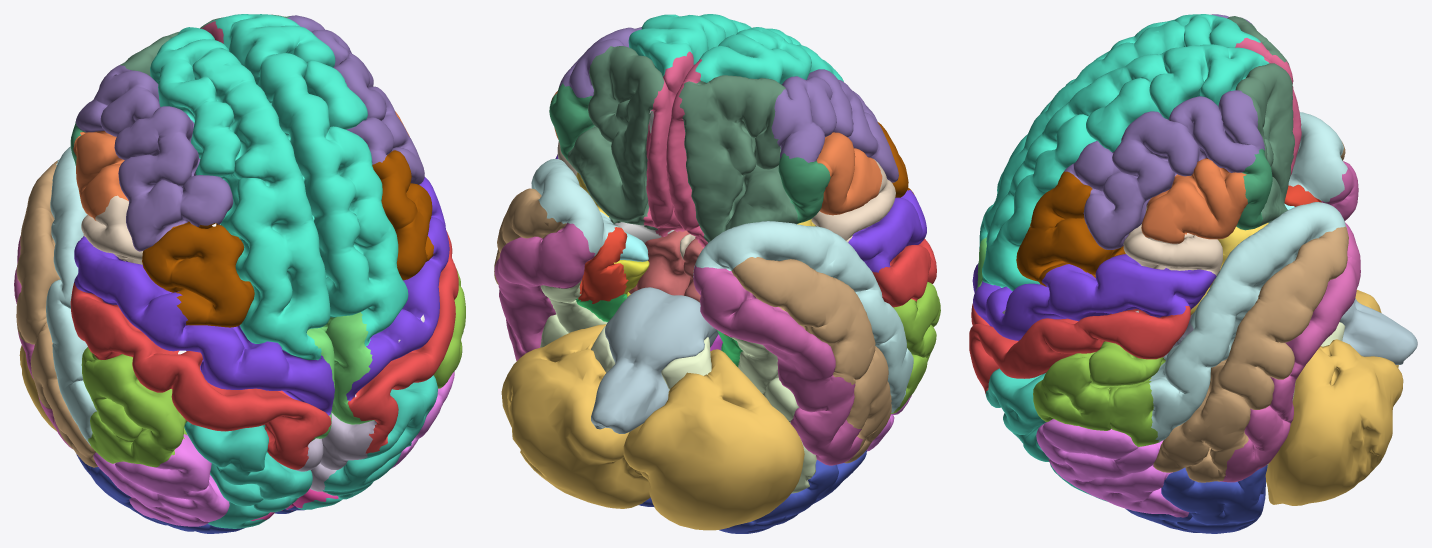
Rendered from brain.glb.
The picture shows the model from 3 angles, left to right: view 1: azimuth 30°, elevation 25°; view 2: azimuth 150°, elevation 25°; view 3: azimuth 270°, elevation 25°; orthographic projection.
Visible parts, largest first — view 1: ctx-lh-superiorfrontal, ctx-rh-superiorfrontal, ctx-lh-rostralmiddlefrontal, ctx-lh-precentral, ctx-lh-postcentral, ctx-lh-supramarginal, ctx-lh-caudalmiddlefrontal, ctx-lh-middletemporal, ctx-lh-superiorparietal, ctx-lh-superiortemporal, ctx-lh-inferiorparietal, ctx-rh-postcentral (+15 smaller); view 2: Left-Cerebellum-Cortex, Right-Cerebellum-Cortex, ctx-lh-lateralorbitofrontal, ctx-lh-inferiortemporal, ctx-lh-middletemporal, ctx-rh-lateralorbitofrontal, Brain-Stem, ctx-lh-superiortemporal, ctx-lh-rostralmiddlefrontal, ctx-rh-inferiortemporal, ctx-lh-superiorfrontal, ctx-rh-superiorfrontal (+25 smaller); view 3: ctx-rh-superiorfrontal, ctx-rh-middletemporal, Right-Cerebellum-Cortex, ctx-rh-rostralmiddlefrontal, ctx-rh-superiortemporal, ctx-rh-precentral, ctx-rh-postcentral, ctx-rh-supramarginal, ctx-rh-inferiorparietal, ctx-rh-inferiortemporal, ctx-lh-superiorfrontal, ctx-rh-parstriangularis (+12 smaller).
Boxes of the visible parts, x1,y1,x2,y2 form: ctx-lh-superiorfrontal: (150, 27, 330, 360); ctx-rh-superiorfrontal: (210, 14, 408, 346); ctx-lh-rostralmiddlefrontal: (75, 65, 233, 251); ctx-lh-precentral: (74, 236, 334, 415); ctx-lh-postcentral: (70, 282, 331, 469); ctx-lh-supramarginal: (81, 347, 187, 467); ctx-lh-caudalmiddlefrontal: (142, 221, 254, 327); ctx-lh-middletemporal: (16, 160, 97, 467); ctx-lh-superiorparietal: (184, 421, 312, 528); ctx-lh-superiortemporal: (46, 146, 96, 445); ctx-lh-inferiorparietal: (93, 434, 229, 526); ctx-rh-postcentral: (348, 230, 458, 453); Left-Cerebellum-Cortex: (623, 349, 804, 530); Right-Cerebellum-Cortex: (501, 324, 650, 508); ctx-lh-lateralorbitofrontal: (679, 75, 797, 242); ctx-lh-inferiortemporal: (693, 265, 862, 465); ctx-lh-middletemporal: (731, 257, 891, 463); ctx-rh-lateralorbitofrontal: (567, 46, 664, 230); Brain-Stem: (591, 287, 718, 433); ctx-lh-superiortemporal: (693, 221, 913, 412); ctx-lh-rostralmiddlefrontal: (771, 69, 898, 182); ctx-rh-inferiortemporal: (494, 223, 595, 360); ctx-lh-superiorfrontal: (695, 27, 843, 84); ctx-rh-superiorfrontal: (628, 14, 751, 76); ctx-rh-superiorfrontal: (982, 44, 1269, 291); ctx-rh-middletemporal: (1153, 226, 1348, 482); Right-Cerebellum-Cortex: (1265, 339, 1403, 505); ctx-rh-rostralmiddlefrontal: (1064, 90, 1264, 249); ctx-rh-superiortemporal: (1149, 202, 1346, 442); ctx-rh-precentral: (973, 254, 1216, 340); ctx-rh-postcentral: (969, 306, 1190, 393); ctx-rh-supramarginal: (1033, 341, 1165, 446); ctx-rh-inferiorparietal: (1036, 419, 1189, 517); ctx-rh-inferiortemporal: (1220, 222, 1360, 482); ctx-lh-superiorfrontal: (979, 14, 1260, 248); ctx-rh-parstriangularis: (1141, 158, 1247, 243).
Size of the model in its own units: 144 by 181 by 154.
